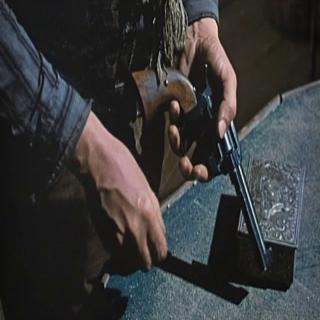gun: (123, 51, 283, 277)
